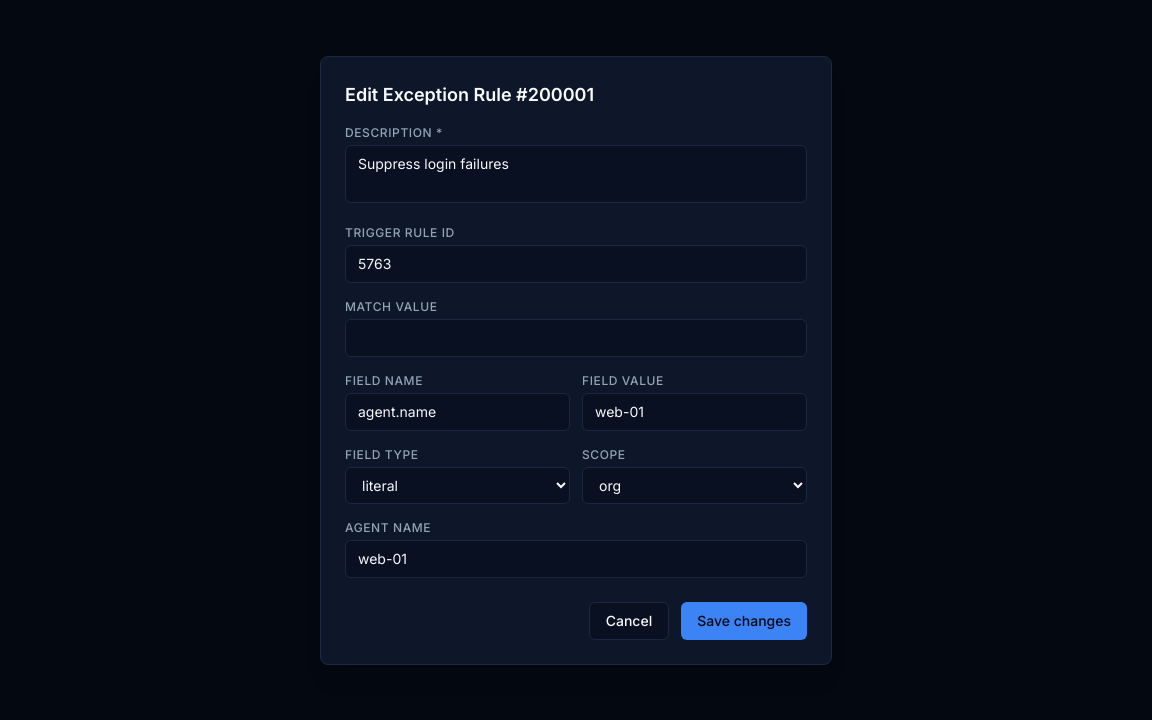
Test: EditExceptionModal › shows inline error on API failure
Click the button "Save changes" at {"x": 744, "y": 620}, box [681,602,807,640]
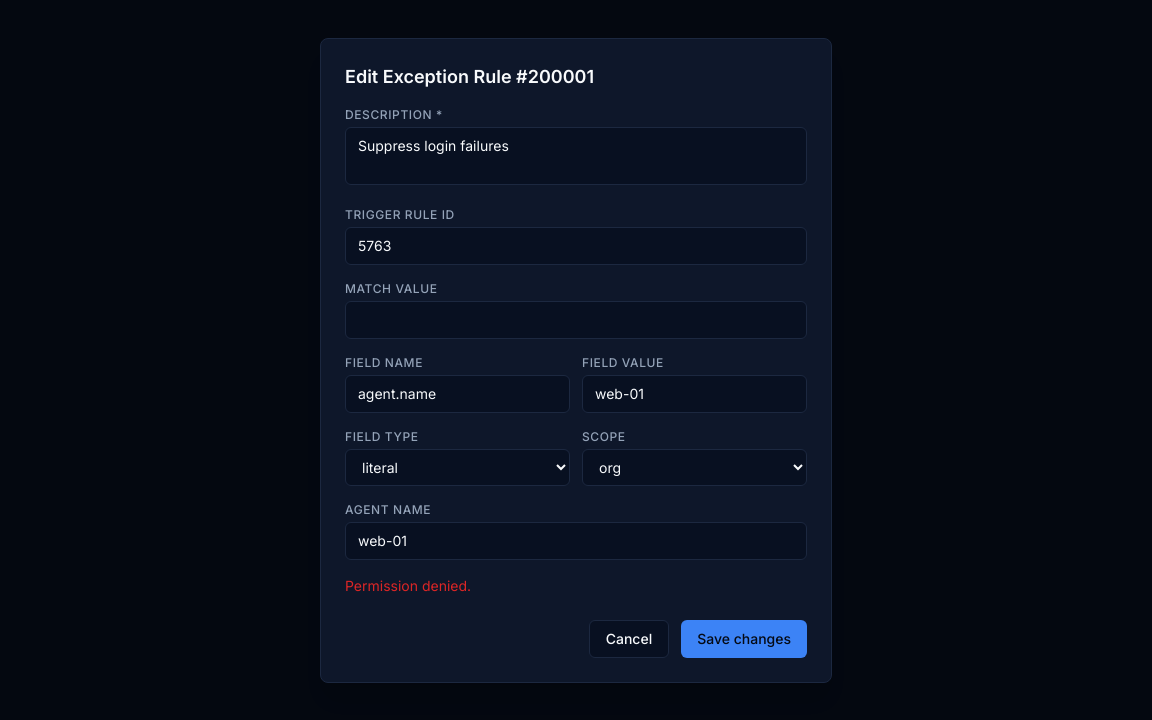
Expected: the text "Permission denied." is shown, [345,576,471,594]
